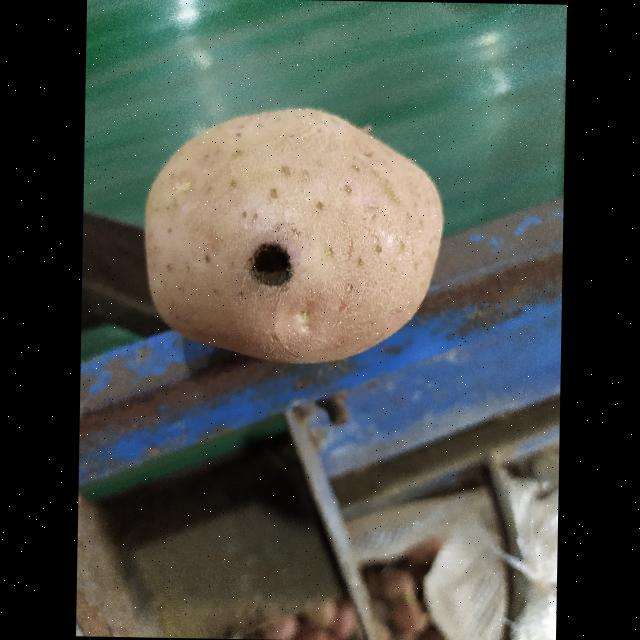Diseased-fungal potato: (168, 47, 470, 386)
